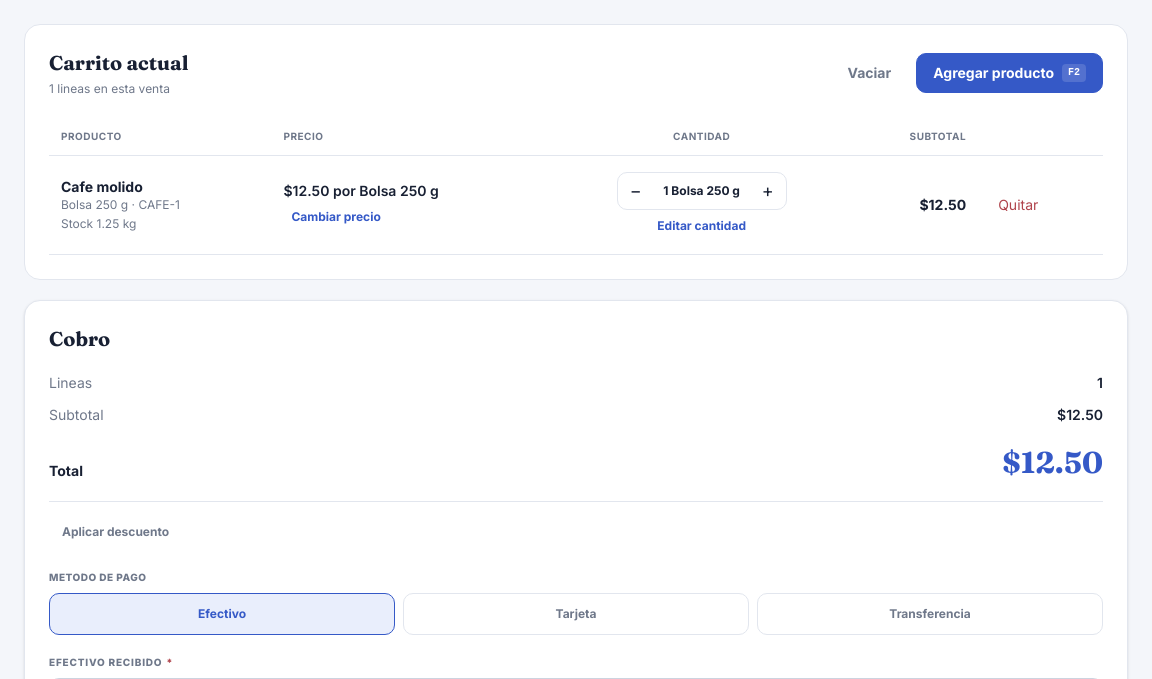
PosView › shows price failures accessibly inside the modal
Click the button with aria-label "Cambiar precio de Cafe molido, Bolsa 250 g": (336, 217) 284,205 -> 389,229
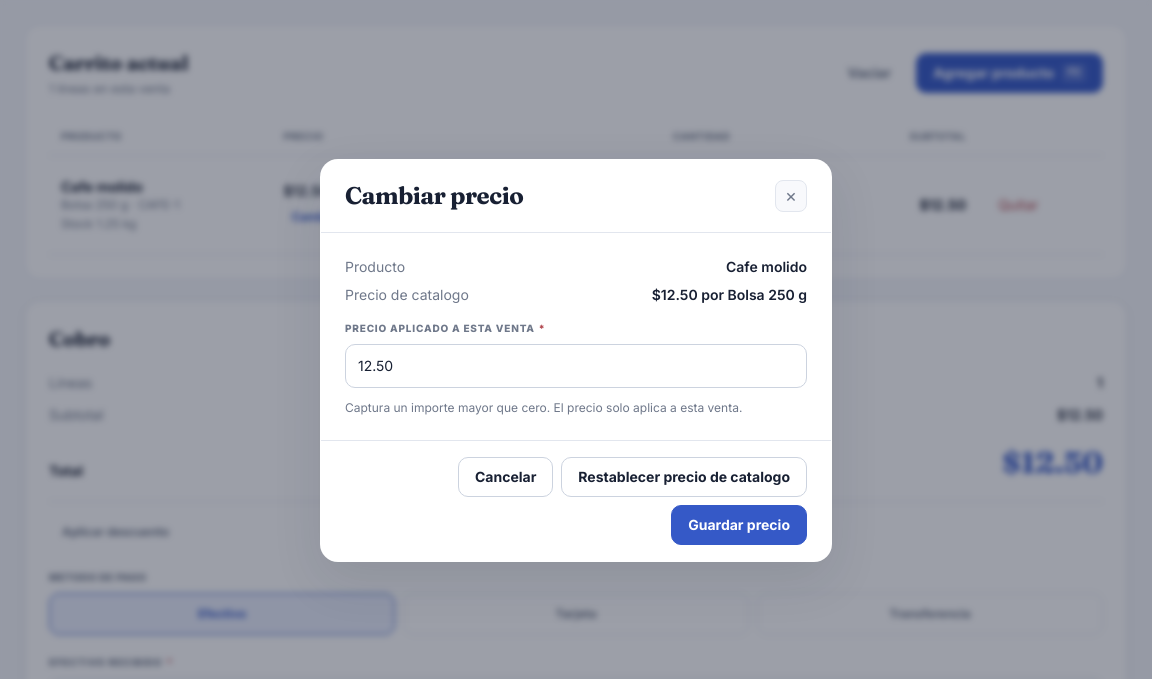
Replace the text in the field labelled "Precio aplicado a esta venta*" with "0": (576, 366) 345,344 -> 807,388
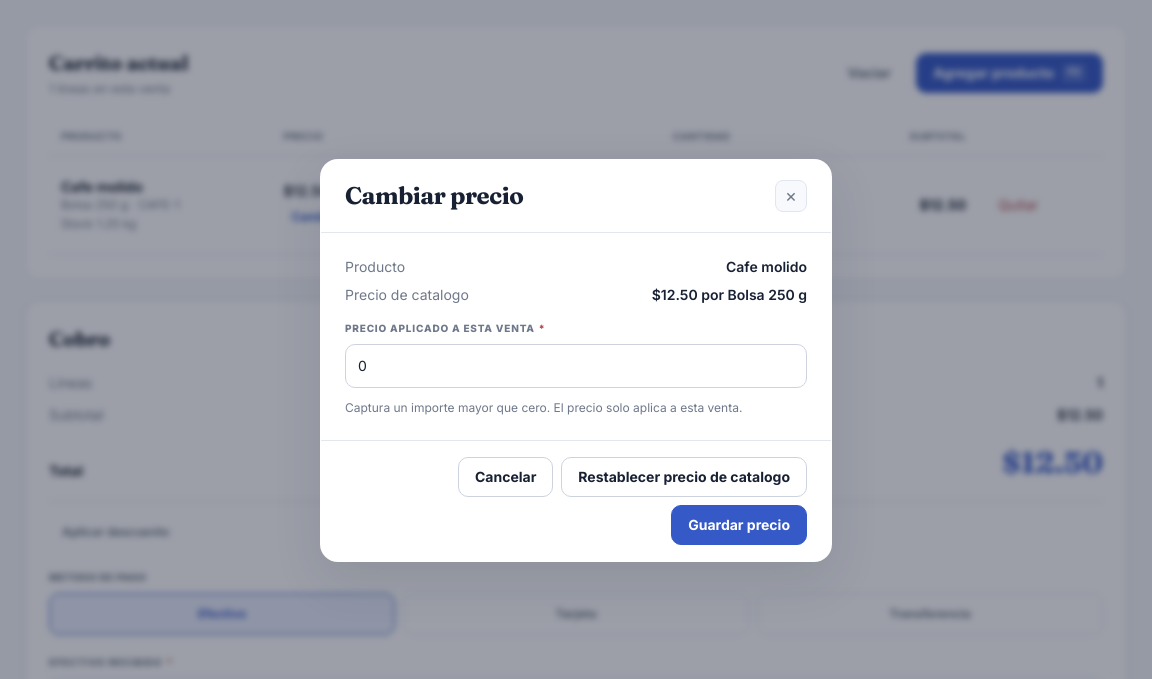
Click the button "Guardar precio": (739, 524) 671,504 -> 807,544
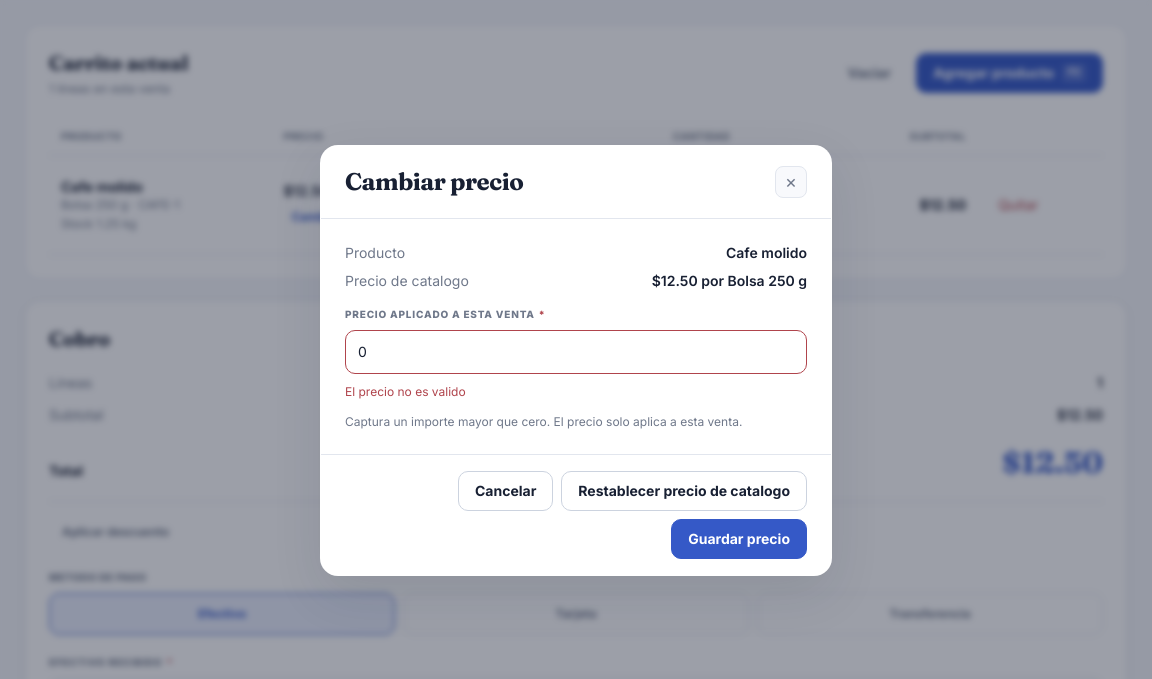
Check: the message reads "El precio no es valido", box 345,384 -> 466,398
